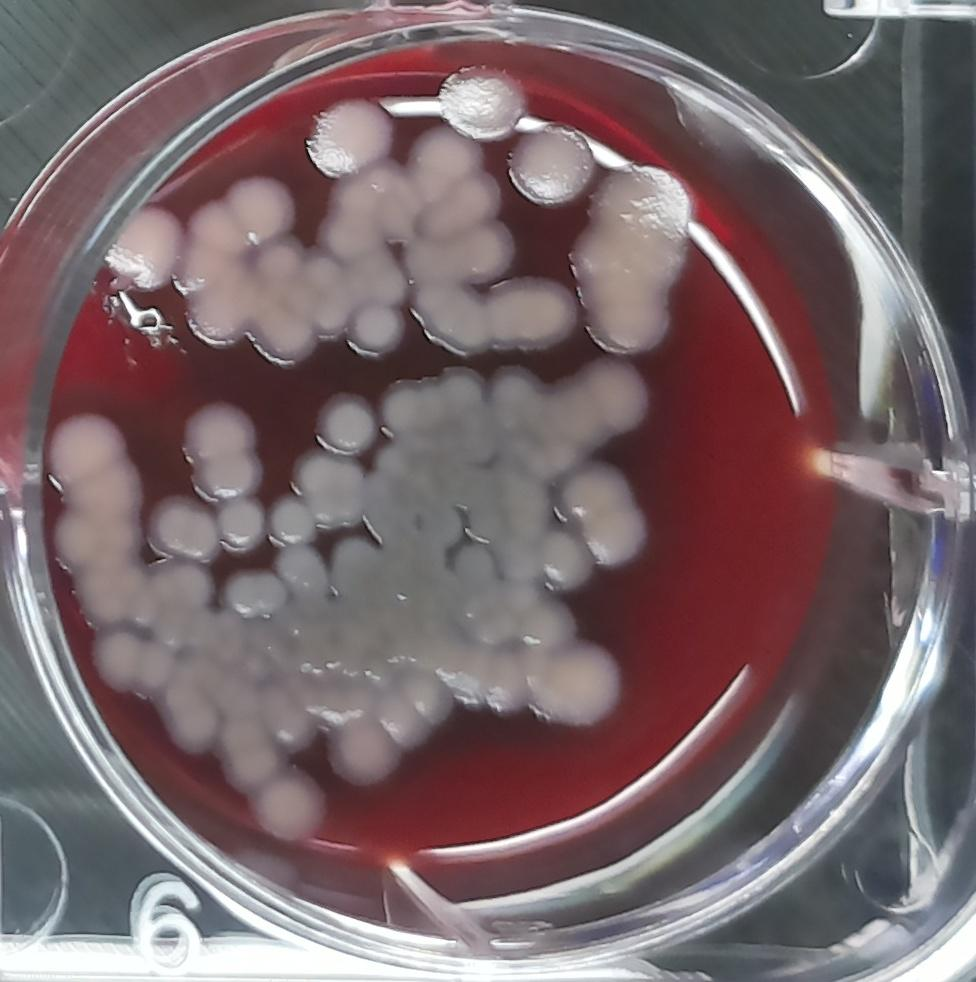bcereus: (571, 146, 695, 354), (405, 111, 516, 280), (539, 345, 662, 458), (529, 633, 629, 735), (558, 462, 650, 572), (508, 112, 599, 212), (170, 398, 261, 495), (307, 86, 398, 178), (482, 269, 580, 354), (247, 765, 332, 846), (311, 385, 378, 459)
